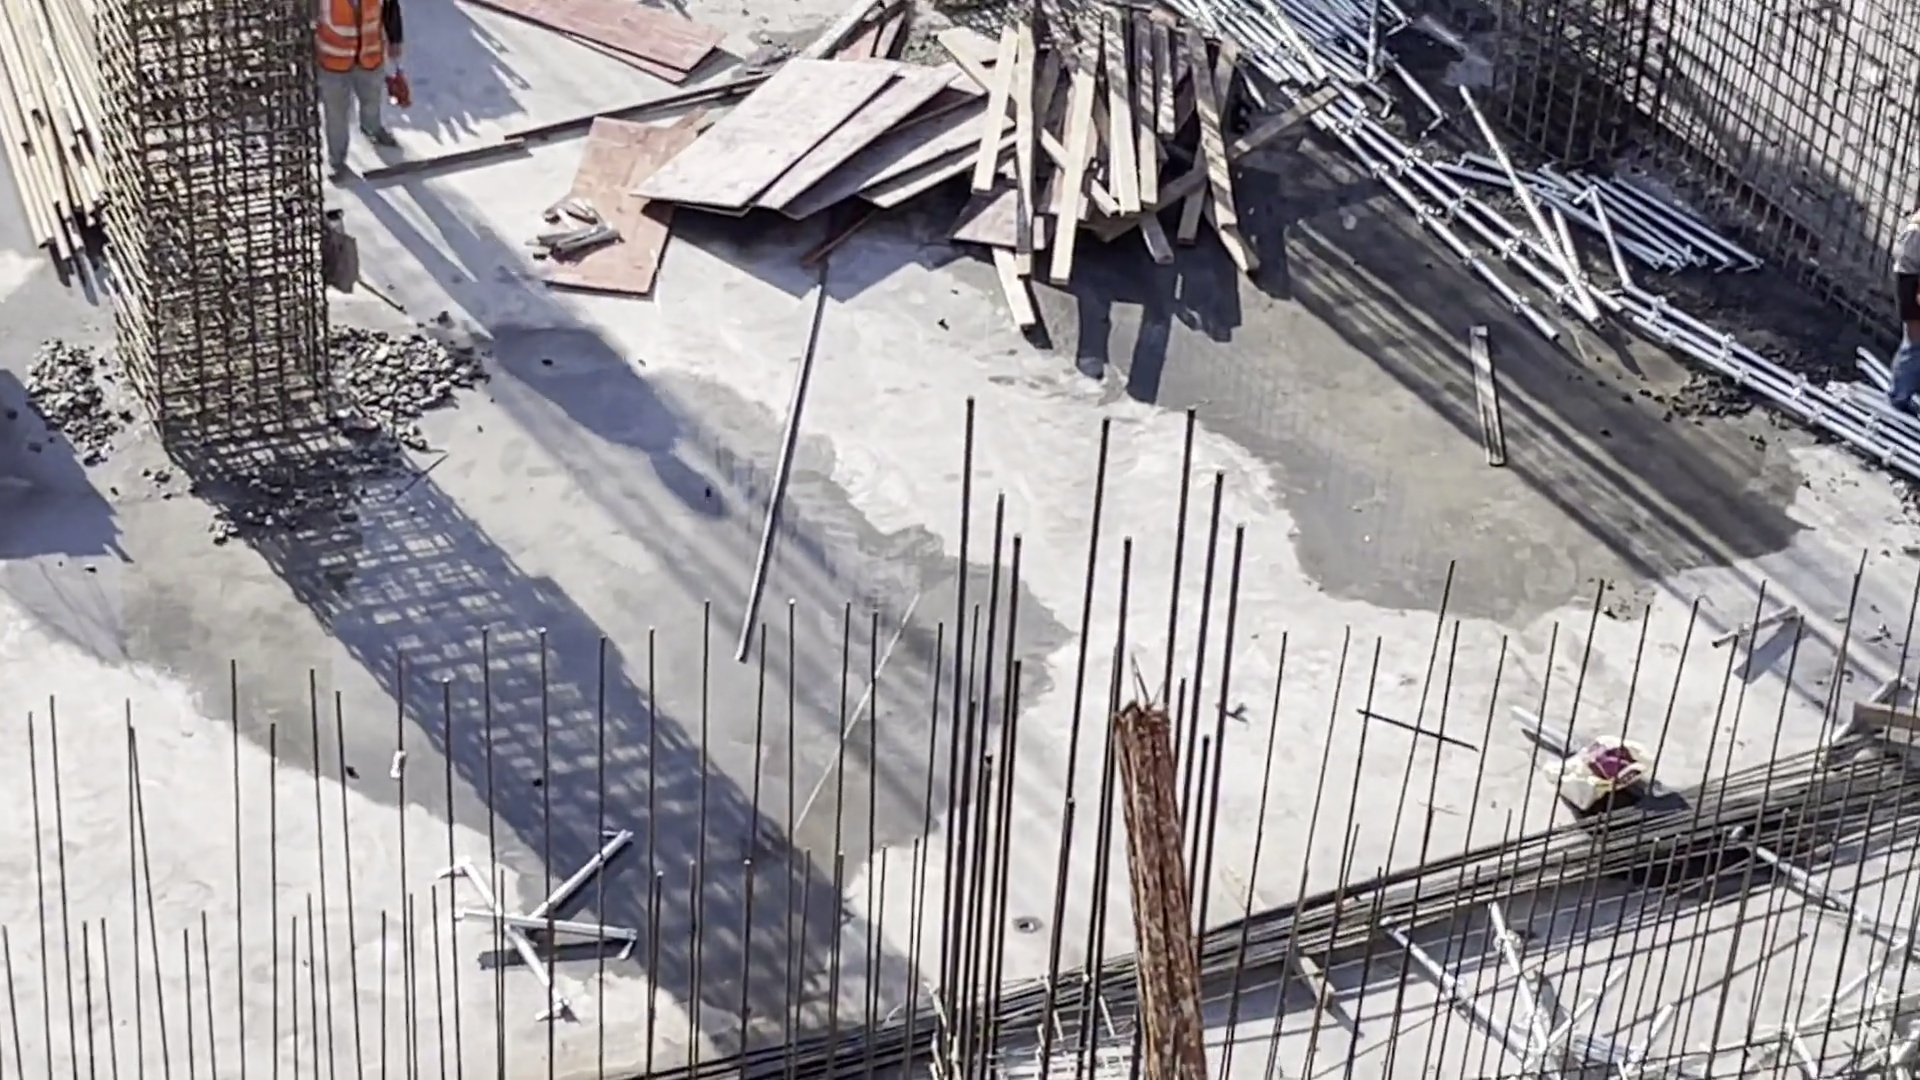board: (639, 62, 990, 235)
person: (317, 1, 415, 176)
rebar: (776, 727, 1886, 1059)
scaffold: (1500, 132, 1705, 299), (1278, 1, 1413, 107)
vest: (327, 1, 404, 75)
wood: (995, 1, 1264, 275)
